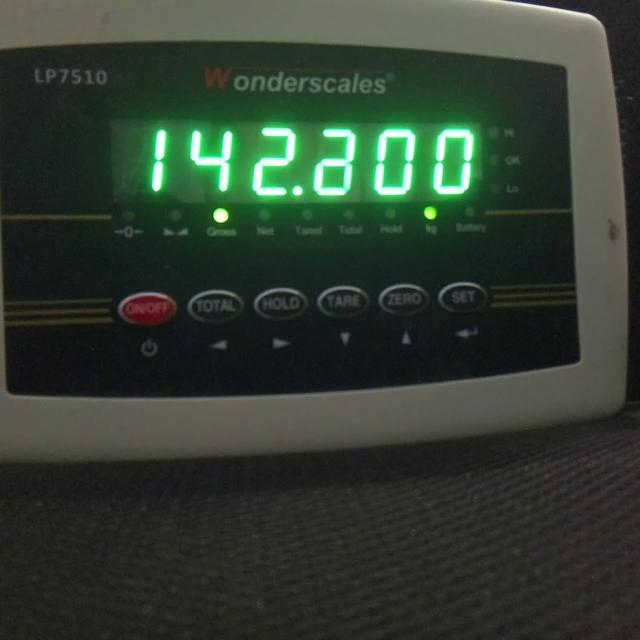.: (290, 184, 303, 196)
0: (374, 128, 416, 195), (433, 128, 473, 194)
1: (150, 128, 167, 192)
2: (252, 127, 297, 196)
4: (190, 128, 232, 193)
6: (312, 127, 356, 196)
